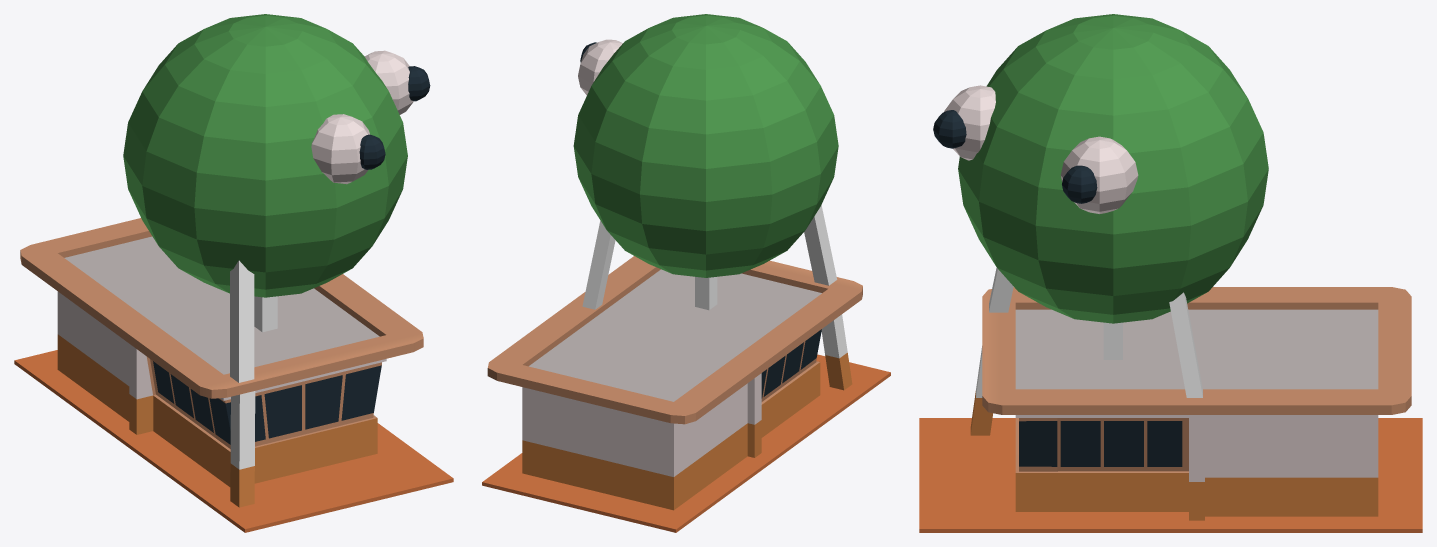
File: SlimeDoughnut_Store.fbx
3 renders of one model, left to right at view 1: azimuth 30°, elevation 25°; view 2: azimuth 150°, elevation 25°; view 3: azimuth 270°, elevation 25°, orthographic. The views are drawn at different scales.
Parts seen in each view (by area): view 1: SlimeDoughnutStore_building; view 2: SlimeDoughnutStore_building; view 3: SlimeDoughnutStore_building.
Boxes of the visible parts, x1,y1,x2,y2 form: SlimeDoughnutStore_building: (14,14,453,532); SlimeDoughnutStore_building: (482,14,890,532); SlimeDoughnutStore_building: (919,14,1422,532).
Size of the model in its own units: 347 by 510 by 506.
